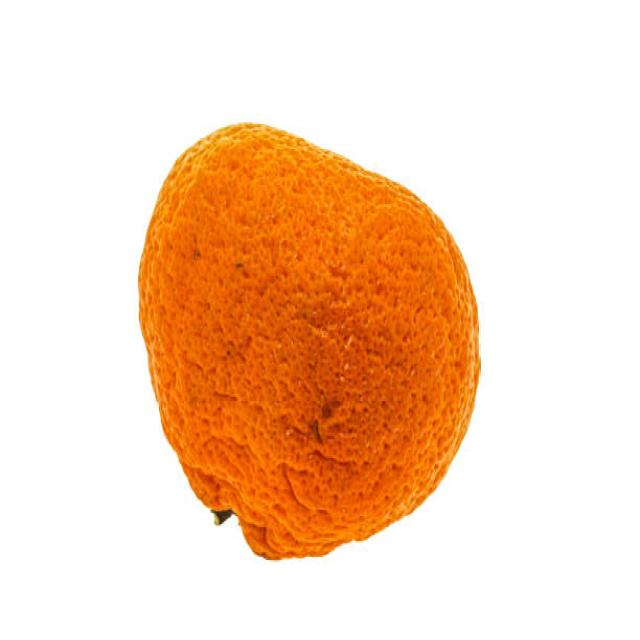overripe: (134, 117, 483, 570)
